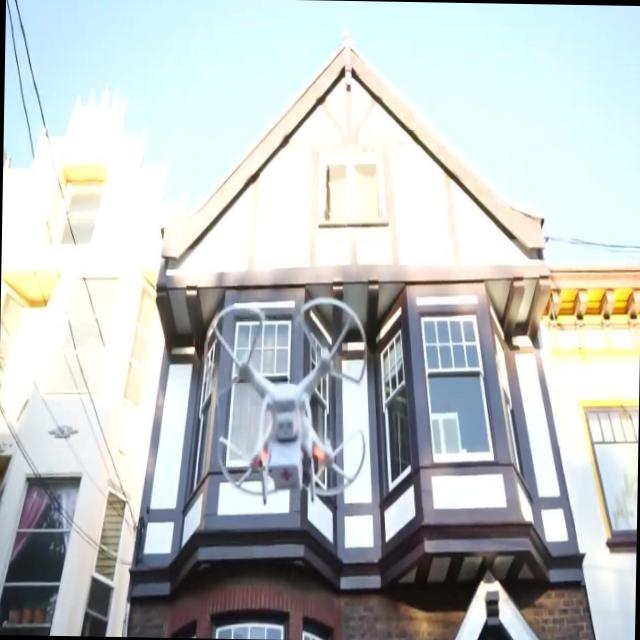drone: (203, 290, 370, 508)
